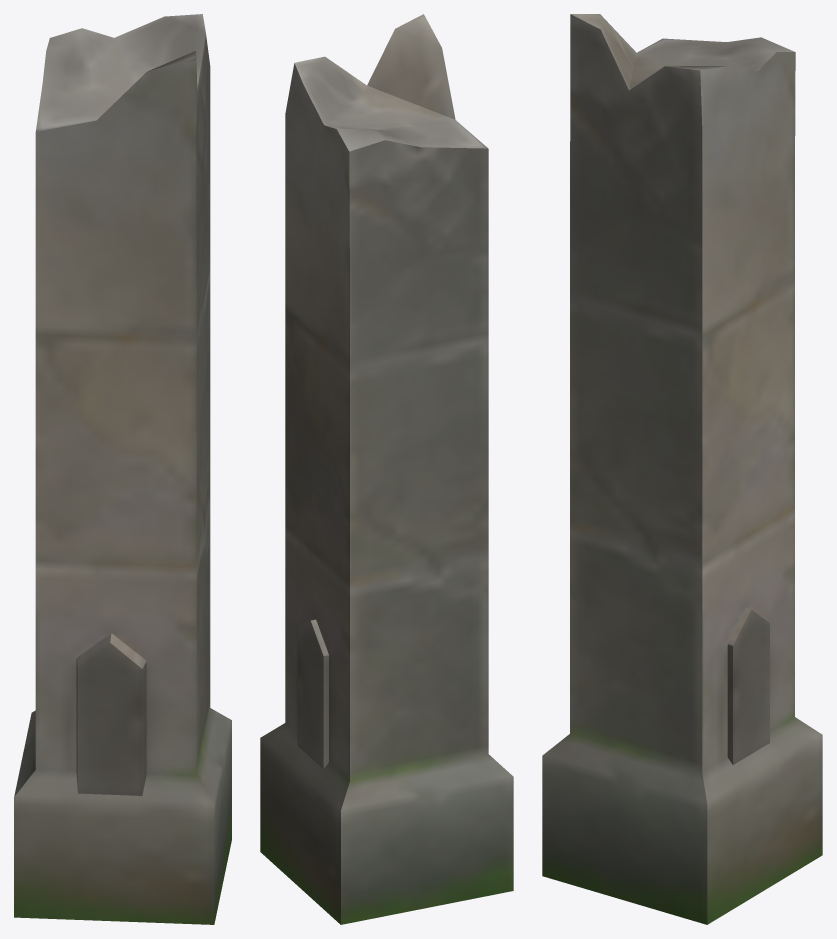
Rendered from jitan_03.FBX.
3 views of the same model, side by side, from view 1: azimuth 30°, elevation 25°; view 2: azimuth 150°, elevation 25°; view 3: azimuth 270°, elevation 25° (orthographic). The views are drawn at different scales.
Parts seen in each view (by area): view 1: Object003; view 2: Object003; view 3: Object003.
Part boxes in pixels (x1,y1,x2,y2): Object003: (14,14,231,924); Object003: (260,14,513,924); Object003: (542,14,822,924).
Size of the model in its own units: 154 by 520 by 154.
